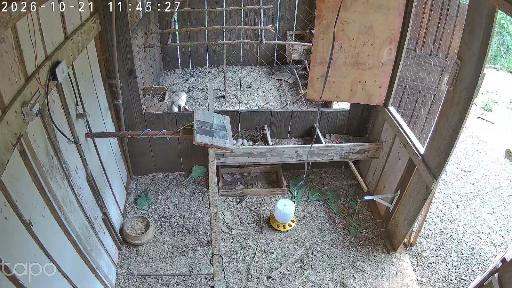ovos: (233, 138, 254, 146)
pato: (170, 91, 189, 110)
